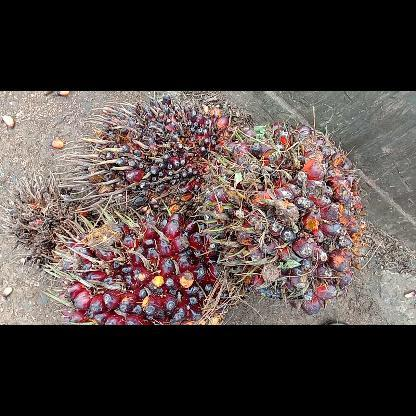TBS abnormal: (48, 94, 242, 222), (1, 170, 99, 266)
TBS masak: (197, 120, 365, 316), (40, 204, 244, 324)
